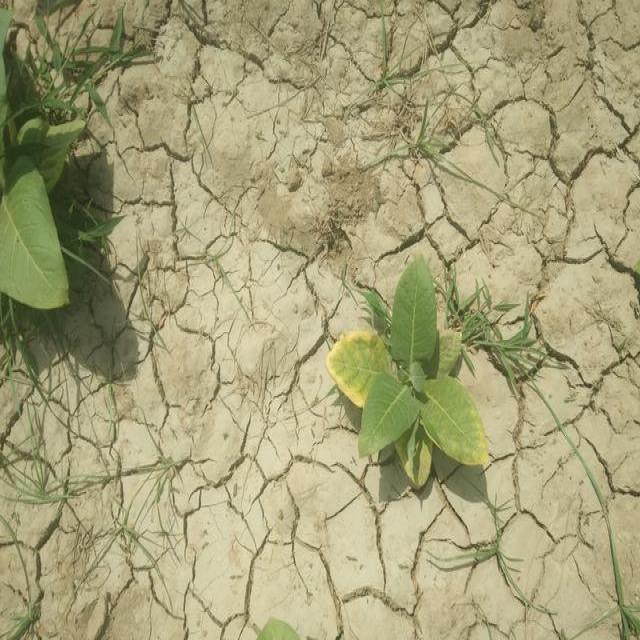crop: (320, 266, 492, 489), (0, 13, 76, 310)
